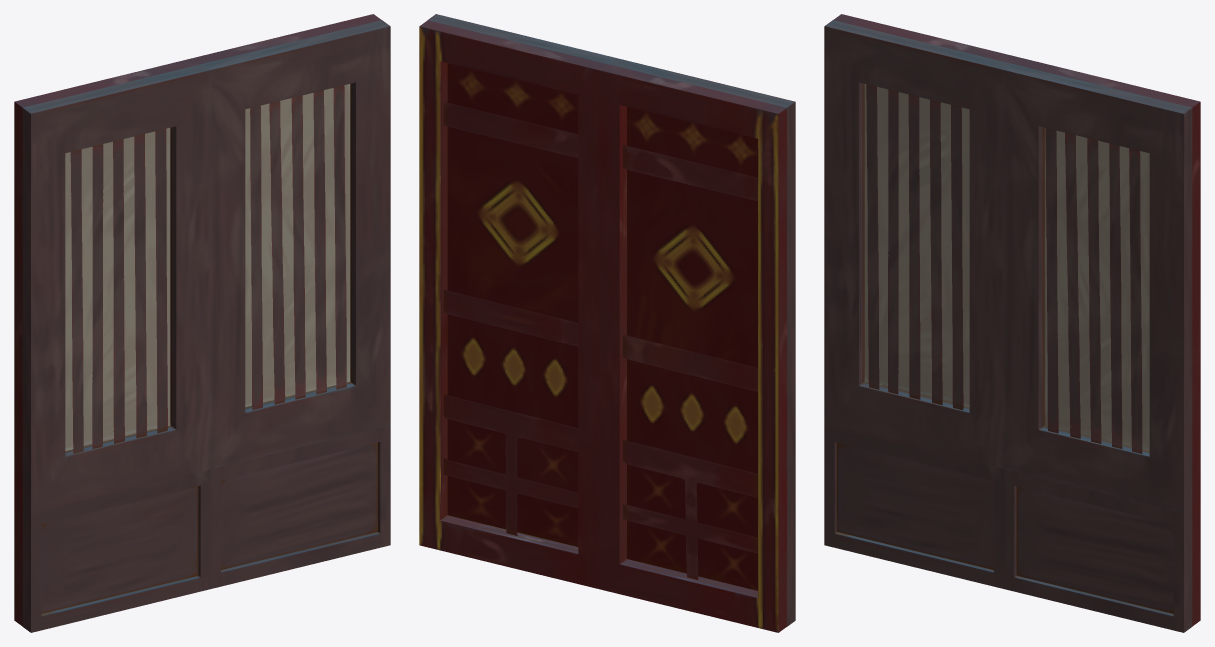
The model's file is ImperialDoor_A.fbx.
3 renders of one model, left to right at view 1: azimuth 30°, elevation 25°; view 2: azimuth 150°, elevation 25°; view 3: azimuth 330°, elevation 25°, orthographic.
Parts seen in each view (by area): view 1: ImperialDoor_A; view 2: ImperialDoor_A; view 3: ImperialDoor_A.
Boxes of the visible parts, x1,y1,x2,y2 form: ImperialDoor_A: (14, 14, 390, 632); ImperialDoor_A: (419, 14, 795, 632); ImperialDoor_A: (824, 14, 1200, 632).
Bounding box in the file's own units: 362 × 500 × 29.36.
